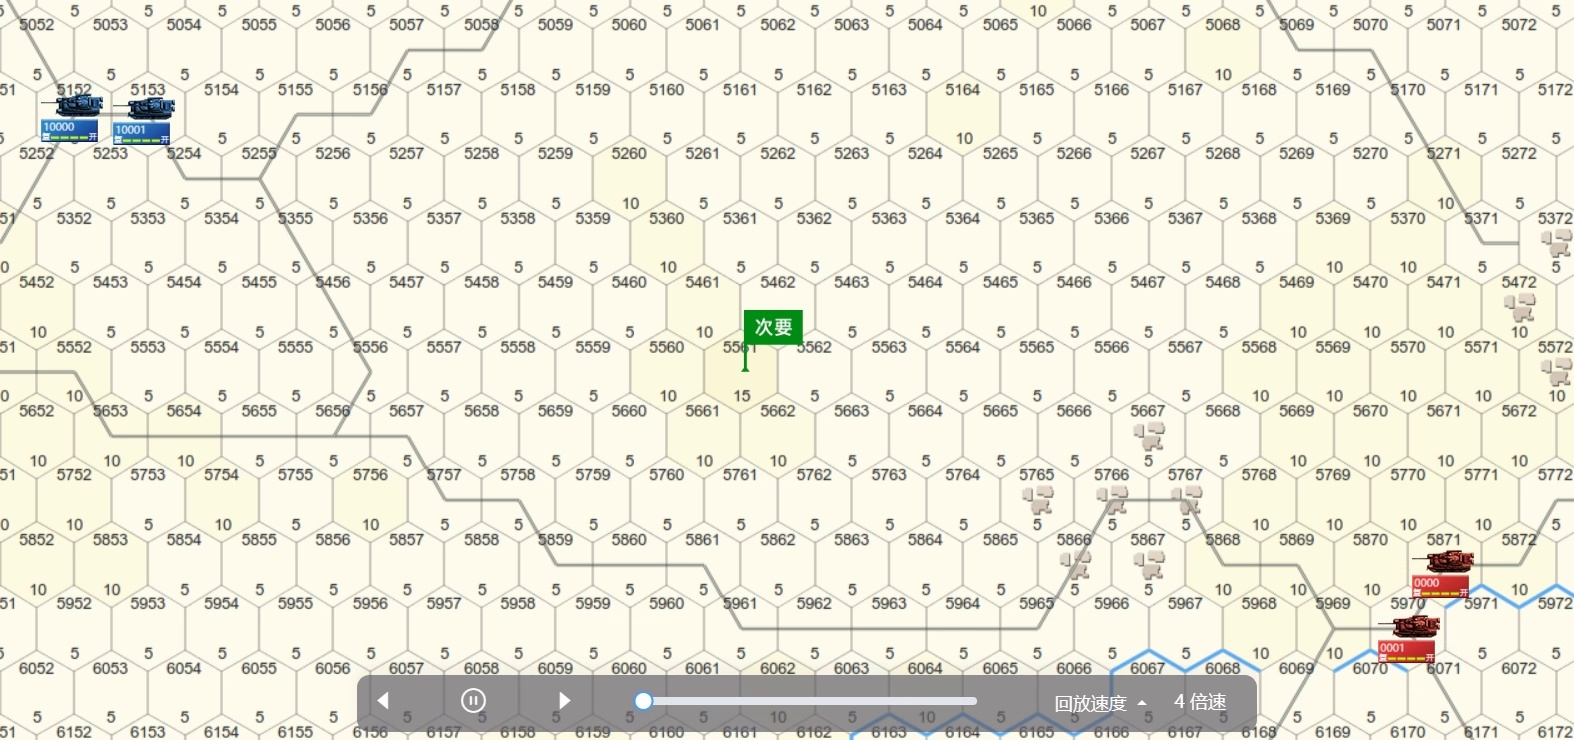blue_tank: (42, 98, 104, 147), (118, 97, 175, 141)
red_tank: (1378, 616, 1442, 671), (1411, 550, 1475, 597)
